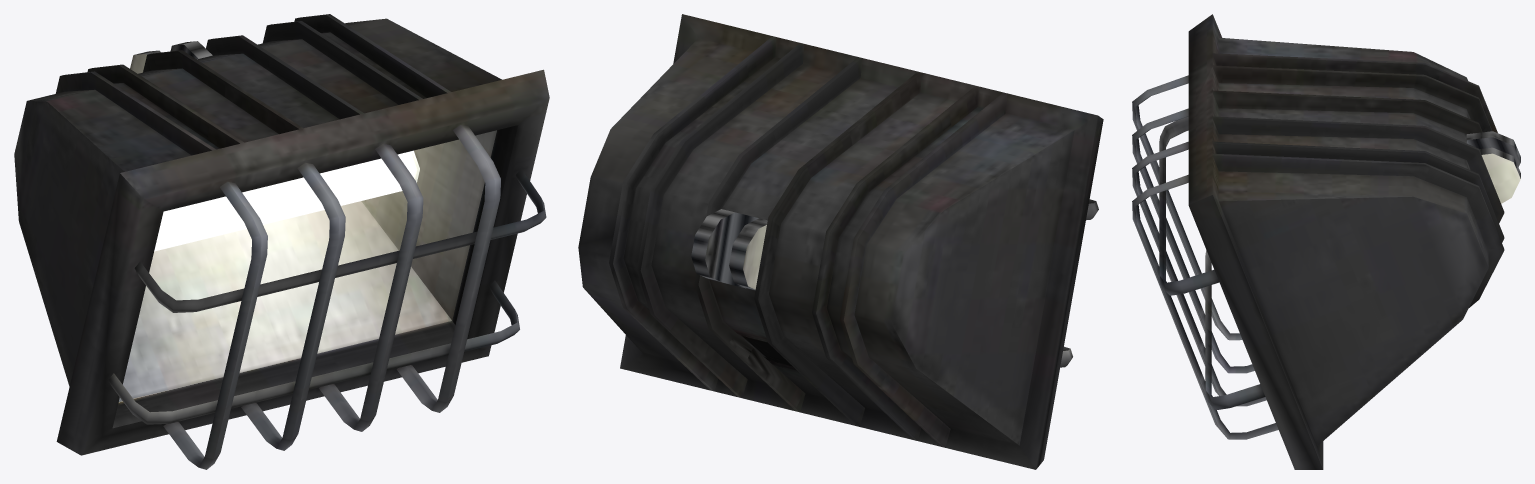
The model's file is RC_UtiltyLight_Sk.fbx.
The picture shows the model from 3 angles, left to right: view 1: azimuth 30°, elevation 25°; view 2: azimuth 150°, elevation 25°; view 3: azimuth 270°, elevation 25°; orthographic projection. The views are drawn at different scales.
Parts seen in each view (by area): view 1: RC_UtiltyLight_Sk; view 2: RC_UtiltyLight_Sk; view 3: RC_UtiltyLight_Sk.
Boxes of the visible parts, <box> form: RC_UtiltyLight_Sk: <box>14,14,549,469</box>; RC_UtiltyLight_Sk: <box>578,14,1103,469</box>; RC_UtiltyLight_Sk: <box>1132,14,1520,469</box>.
Bounding box in the file's own units: 9.31 × 6.86 × 8.46.
Materials: 1 (1 with a texture image).
